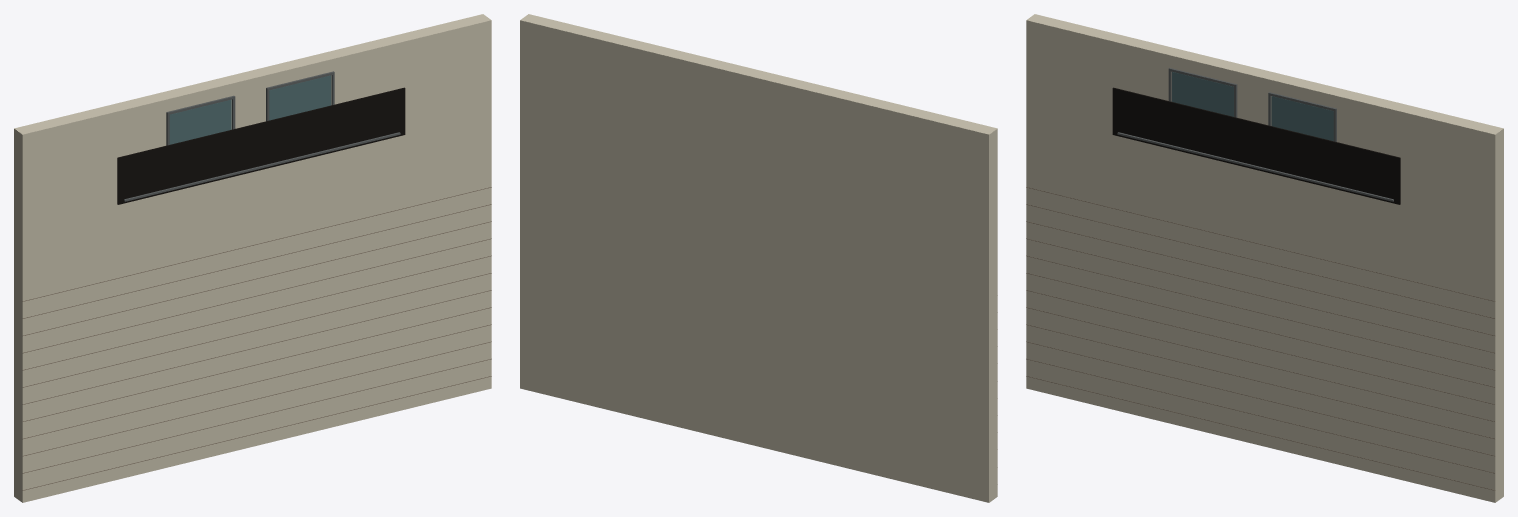
Rendered from Chữ mica sáng hắt chân.obj.
3 renders of one model, left to right at view 1: azimuth 30°, elevation 25°; view 2: azimuth 150°, elevation 25°; view 3: azimuth 330°, elevation 25°, orthographic.
Visible parts, largest first — view 1: Khoi_tuong, Nen_sau_chu_Coffee_Tea, Kinh_tren_trai, Kinh_tren_phai, Thanh_lap_dat_tren, Mach_gach_2, Mach_gach_8, Mach_gach_1, Mach_gach_9, Mach_gach_12, Mach_gach_3, Mach_gach_4 (+5 smaller); view 2: Khoi_tuong; view 3: Khoi_tuong, Nen_sau_chu_Coffee_Tea, Kinh_tren_phai, Kinh_tren_trai, Thanh_lap_dat_tren, Mach_gach_2, Mach_gach_8, Mach_gach_1, Mach_gach_9, Mach_gach_12, Mach_gach_3, Mach_gach_4 (+5 smaller).
Boxes of the visible parts, bbox=[...] form: Khoi_tuong: bbox=[14, 14, 491, 502]; Nen_sau_chu_Coffee_Tea: bbox=[117, 87, 405, 204]; Kinh_tren_trai: bbox=[169, 99, 231, 144]; Kinh_tren_phai: bbox=[269, 75, 331, 120]; Thanh_lap_dat_tren: bbox=[124, 132, 400, 201]; Mach_gach_2: bbox=[22, 358, 491, 473]; Mach_gach_8: bbox=[22, 255, 491, 370]; Mach_gach_1: bbox=[22, 376, 491, 490]; Mach_gach_9: bbox=[23, 238, 491, 353]; Mach_gach_12: bbox=[22, 187, 491, 301]; Mach_gach_3: bbox=[23, 341, 491, 456]; Mach_gach_4: bbox=[23, 324, 491, 438]; Khoi_tuong: bbox=[520, 14, 997, 502]; Khoi_tuong: bbox=[1026, 14, 1503, 502]; Nen_sau_chu_Coffee_Tea: bbox=[1112, 87, 1400, 204]; Kinh_tren_phai: bbox=[1271, 96, 1333, 141]; Kinh_tren_trai: bbox=[1172, 72, 1233, 116]; Thanh_lap_dat_tren: bbox=[1117, 132, 1393, 201]; Mach_gach_2: bbox=[1026, 358, 1495, 473]; Mach_gach_8: bbox=[1026, 255, 1495, 370]; Mach_gach_1: bbox=[1026, 376, 1495, 490]; Mach_gach_9: bbox=[1026, 238, 1494, 353]; Mach_gach_12: bbox=[1026, 187, 1495, 301]; Mach_gach_3: bbox=[1026, 341, 1494, 456]; Mach_gach_4: bbox=[1026, 324, 1494, 438].
Size of the model in its own units: 8 by 6 by 0.419.
